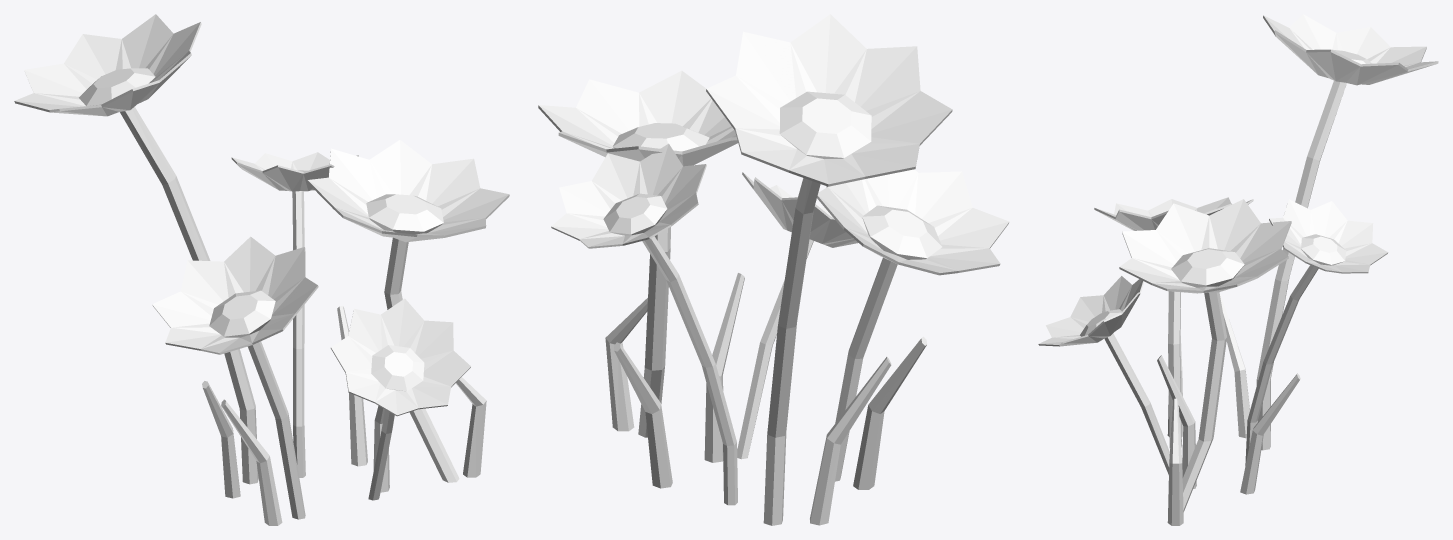
The model's file is Env_Flower_Patch_02.glb.
3 views of the same model, side by side, from view 1: azimuth 30°, elevation 25°; view 2: azimuth 150°, elevation 25°; view 3: azimuth 270°, elevation 25° (orthographic). The views are drawn at different scales.
Visible parts, largest first — view 1: Env_Flower_Patch_02; view 2: Env_Flower_Patch_02; view 3: Env_Flower_Patch_02.
Boxes of the visible parts, x1,y1,x2,y2 form: Env_Flower_Patch_02: (14,14,509,525); Env_Flower_Patch_02: (538,14,1009,525); Env_Flower_Patch_02: (1038,14,1438,525).
Bounding box in the file's own units: 0.471 × 0.5093 × 0.4696.
Materials: 1 (1 with a texture image).
